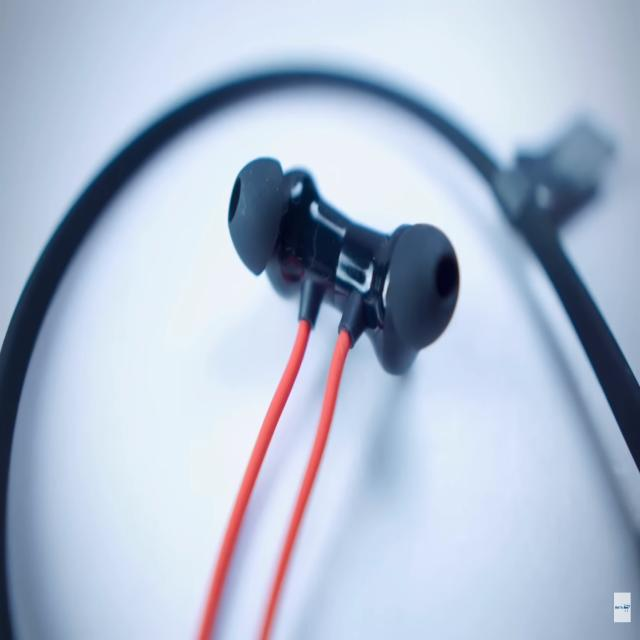Neckband: (2, 58, 640, 640)
